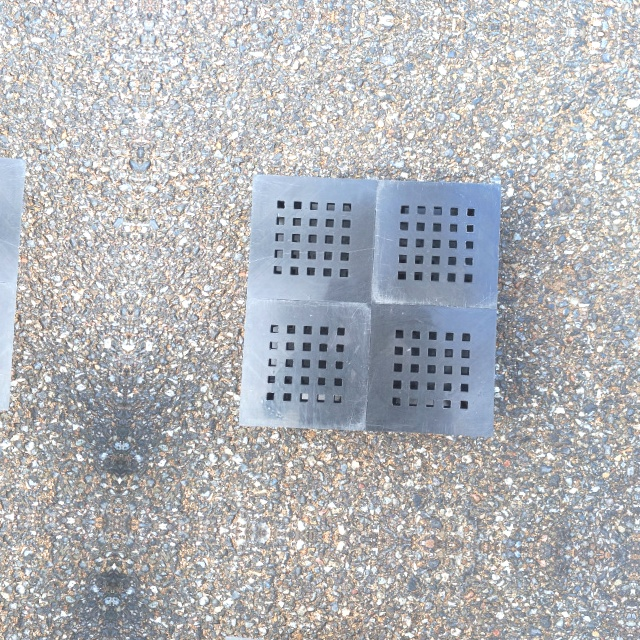pallet: (232, 172, 504, 442)
